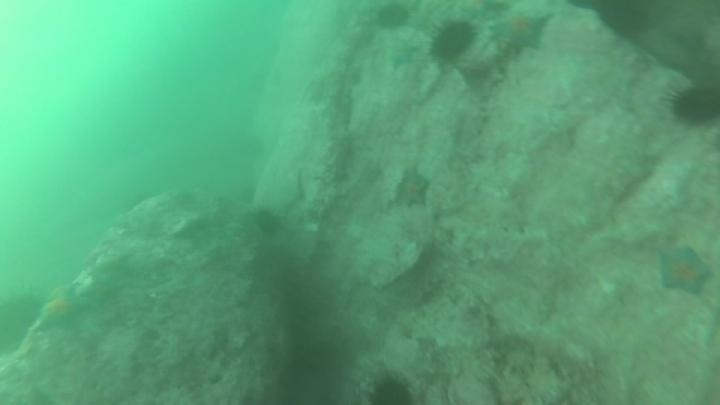echinus: (0, 290, 45, 355), (666, 81, 720, 129), (593, 2, 655, 42), (249, 244, 298, 292), (428, 18, 478, 65), (366, 373, 416, 404), (372, 2, 413, 33), (251, 206, 285, 239)
starfish: (637, 157, 699, 212), (654, 244, 715, 299), (489, 8, 555, 57), (33, 283, 92, 335), (392, 165, 434, 212), (384, 39, 421, 74)
